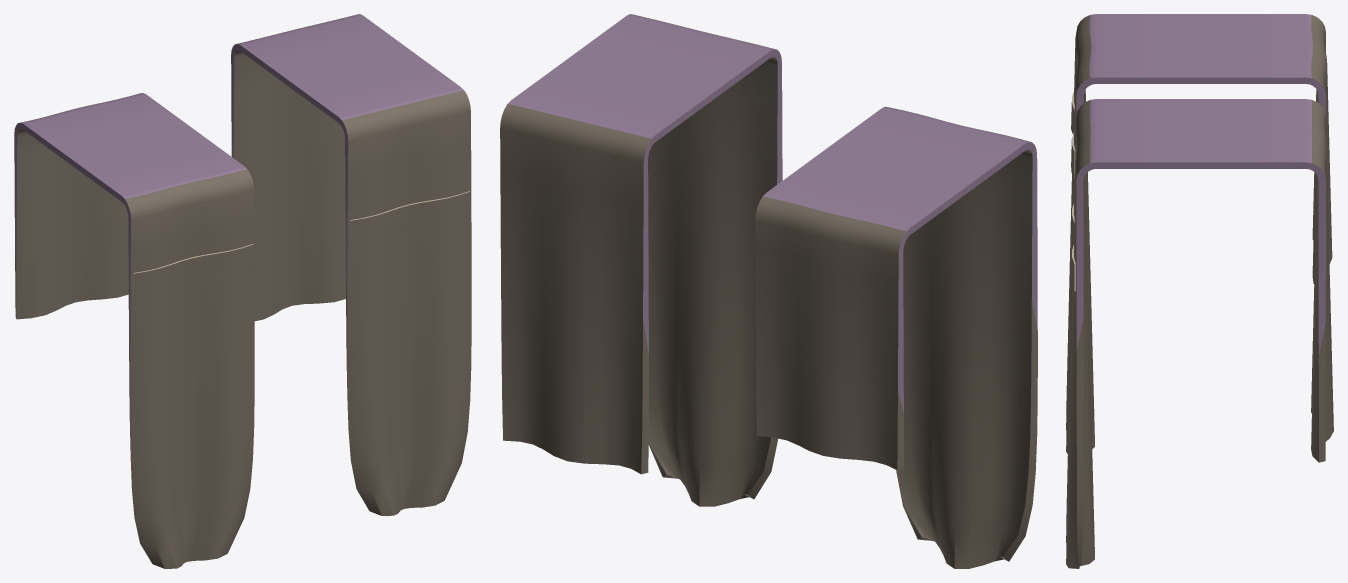
Rendered from socks-draped-mint-373891d71fda.glb.
3 views of the same model, side by side, from view 1: azimuth 30°, elevation 25°; view 2: azimuth 150°, elevation 25°; view 3: azimuth 270°, elevation 25° (orthographic). The views are drawn at different scales.
Visible parts, largest first — view 1: cover-cloth, cloth-lilac; view 2: cover-cloth, cloth-lilac; view 3: cloth-lilac, cover-cloth.
Boxes of the visible parts, <box> form: cover-cloth: <box>15,14,471,568</box>; cloth-lilac: <box>14,14,463,364</box>; cover-cloth: <box>500,14,1037,568</box>; cloth-lilac: <box>508,14,1037,559</box>; cloth-lilac: <box>1076,14,1325,356</box>; cover-cloth: <box>1066,15,1333,568</box>.
Bounding box in the file's own units: 0.208 × 0.235 × 0.133.
